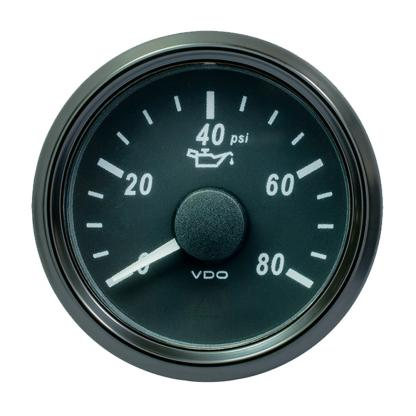needle: (103, 236, 182, 289)
